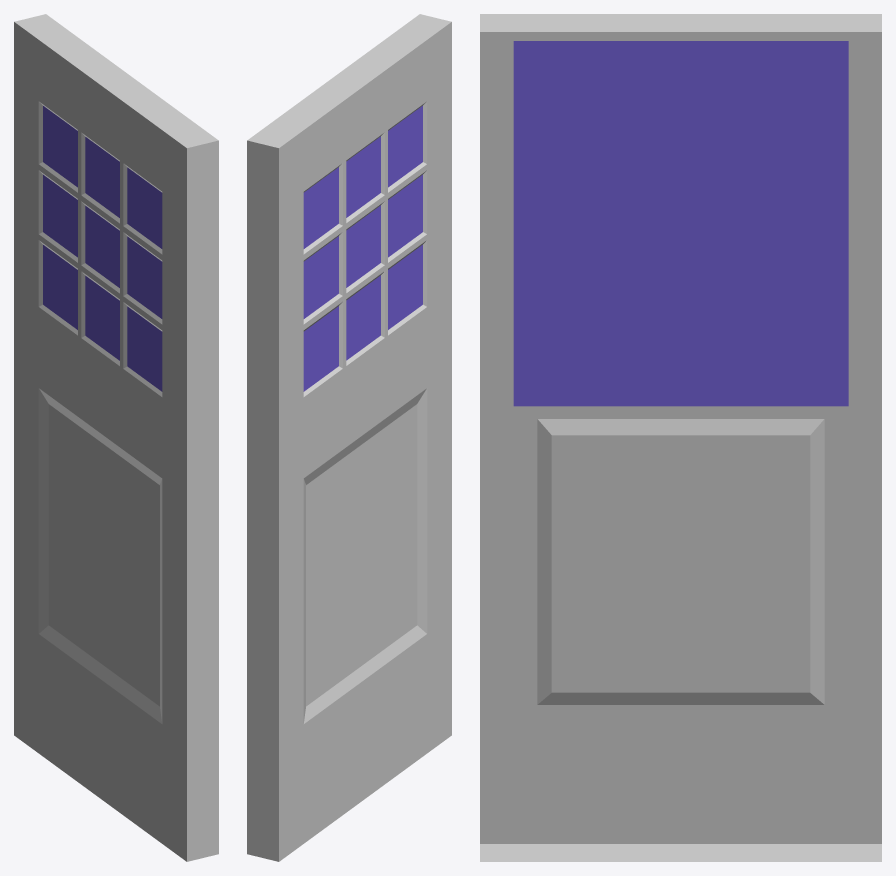
The model's file is Door_Rustic.fbx.
The picture shows the model from 3 angles, left to right: view 1: azimuth 30°, elevation 25°; view 2: azimuth 150°, elevation 25°; view 3: azimuth 270°, elevation 25°; orthographic projection. The views are drawn at different scales.
Visible parts, largest first — view 1: Doors; view 2: Doors; view 3: Doors.
Boxes of the visible parts, bbox=[...] form: Doors: bbox=[14, 14, 218, 861]; Doors: bbox=[247, 14, 451, 861]; Doors: bbox=[480, 14, 881, 861].
Bounding box in the file's own units: 5.73 × 122 × 53.74.
